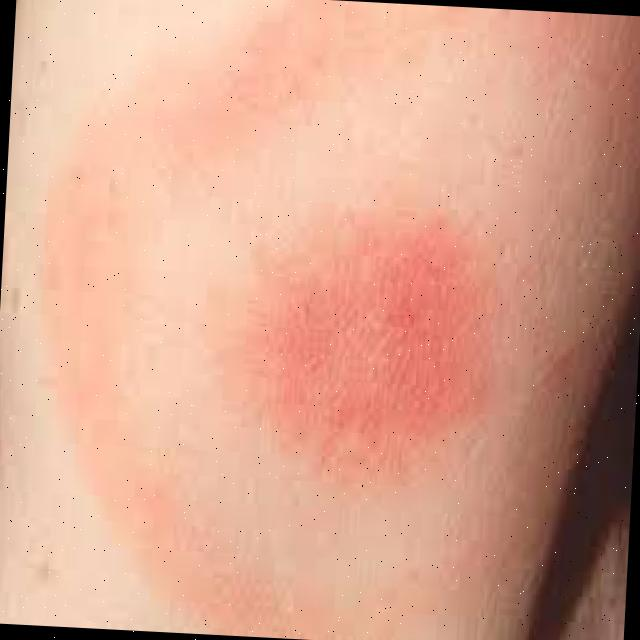kene: (33, 1, 626, 640)
